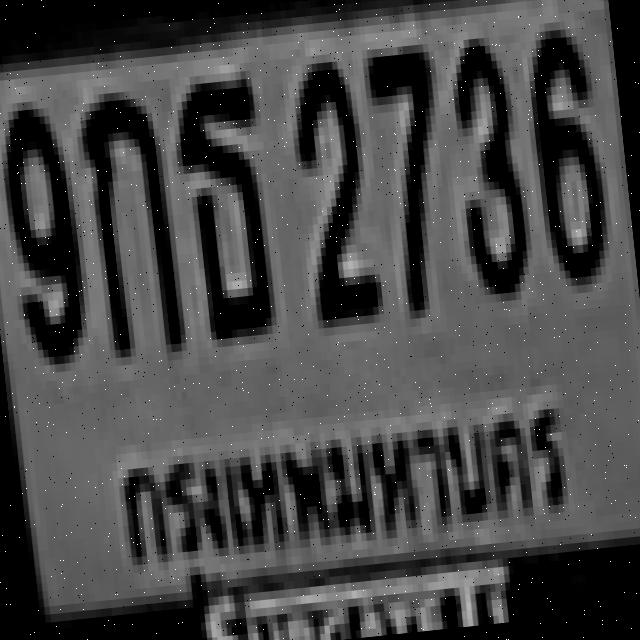10GorGai: (72, 80, 180, 351)
2: (285, 55, 378, 317)
3: (442, 27, 531, 296)
33ThorThong: (168, 70, 272, 334)
6: (518, 19, 606, 280)
7: (361, 44, 450, 313)
9: (0, 98, 84, 360)
Bangkok: (106, 383, 584, 585)
